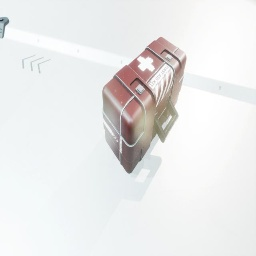FirstAidBox ,: (102, 37, 187, 174)
